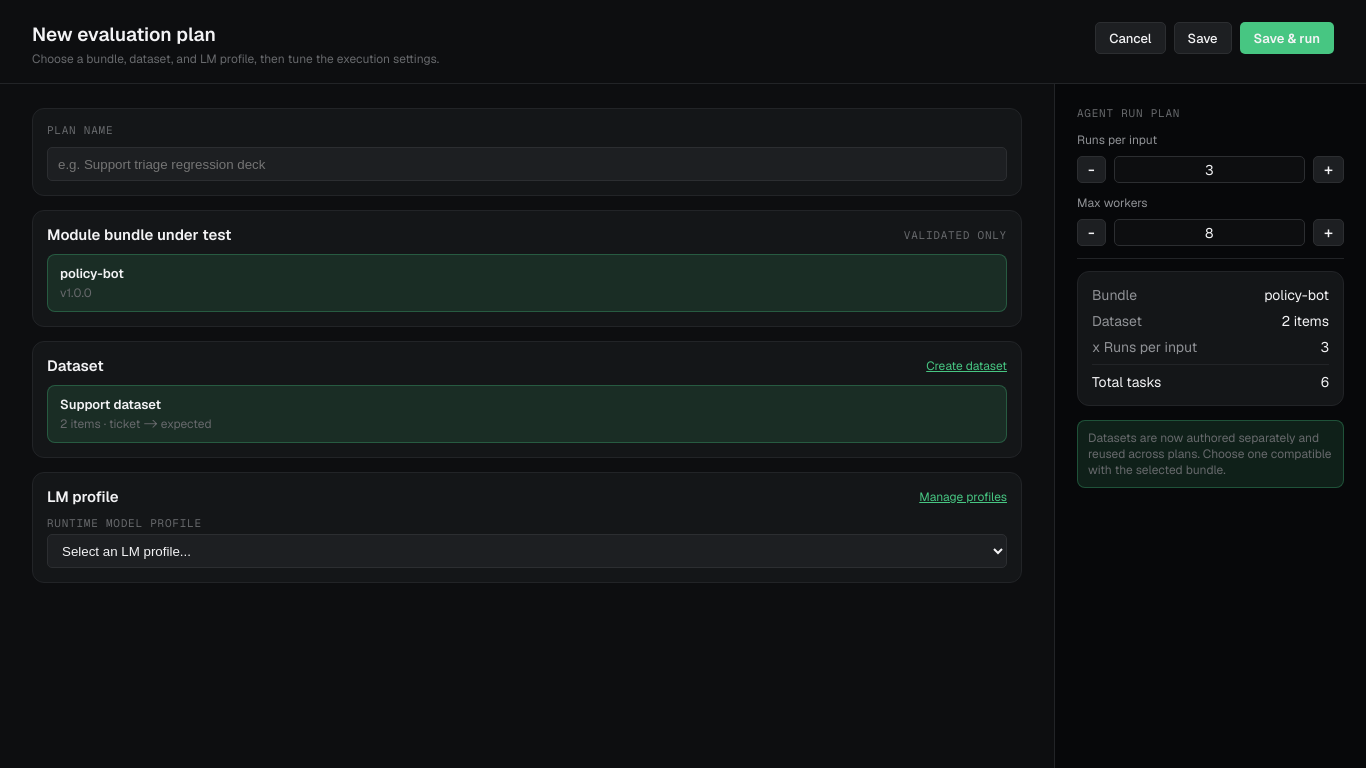
Test case: PlansPage › requires LM profile before saving
Type "No LM Profile" into the field labelled "Plan name" at (527, 164), box 47,147 -> 1007,181
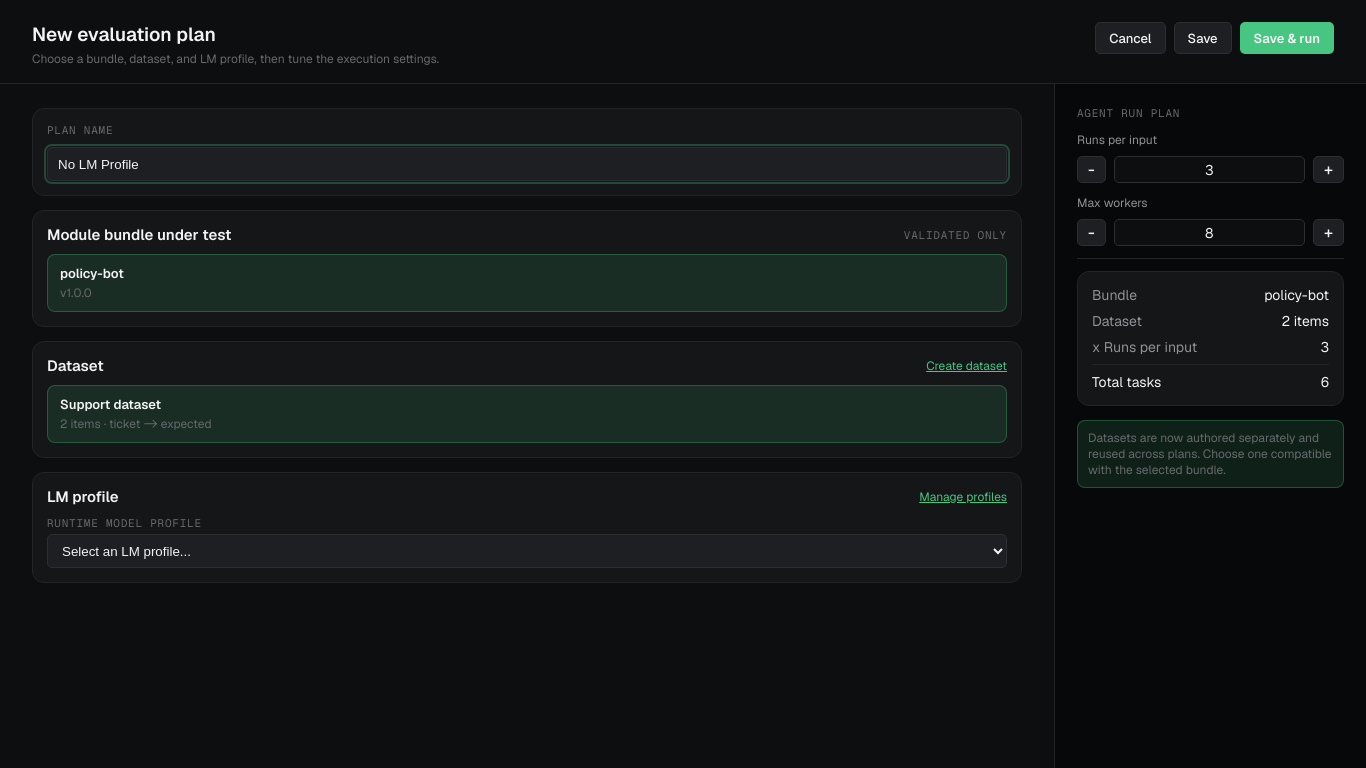
Click the button "Save" at (1202, 38), box 1174,22 -> 1232,54
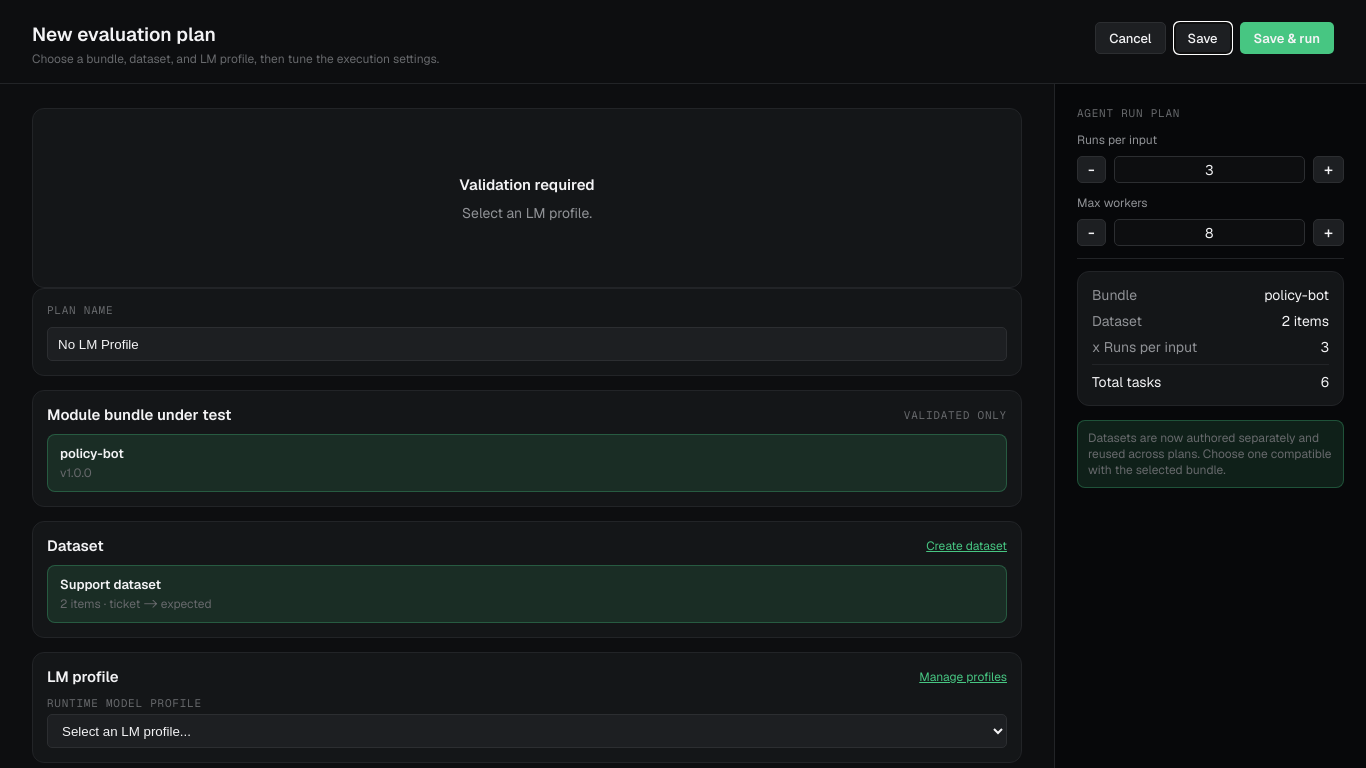
Expected: the text "Select an LM profile." is shown, 462,204 -> 592,222
